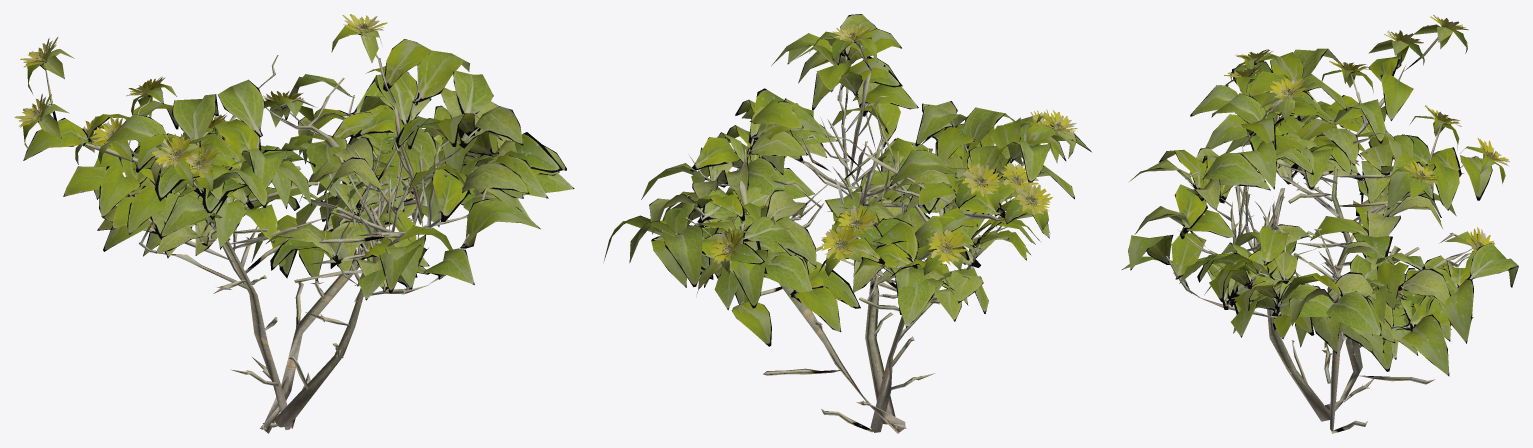
File: bush2.obj
3 renders of one model, left to right at view 1: azimuth 30°, elevation 25°; view 2: azimuth 150°, elevation 25°; view 3: azimuth 270°, elevation 25°, orthographic. The views are drawn at different scales.
Parts seen in each view (by area): view 1: didelta_spinosa_medium_LOD0.001; view 2: didelta_spinosa_medium_LOD0.001; view 3: didelta_spinosa_medium_LOD0.001.
Part boxes in pixels (x1,y1,x2,y2): didelta_spinosa_medium_LOD0.001: (14,14,574,433); didelta_spinosa_medium_LOD0.001: (604,14,1091,433); didelta_spinosa_medium_LOD0.001: (1122,15,1518,433).
Bounding box in the file's own units: 0.1901 × 0.1618 × 0.1574.
